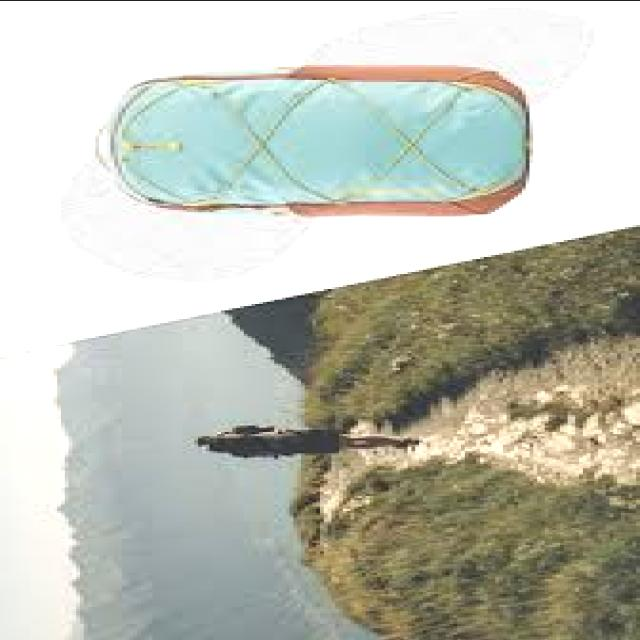backpack: (87, 57, 553, 227), (207, 429, 311, 460)
